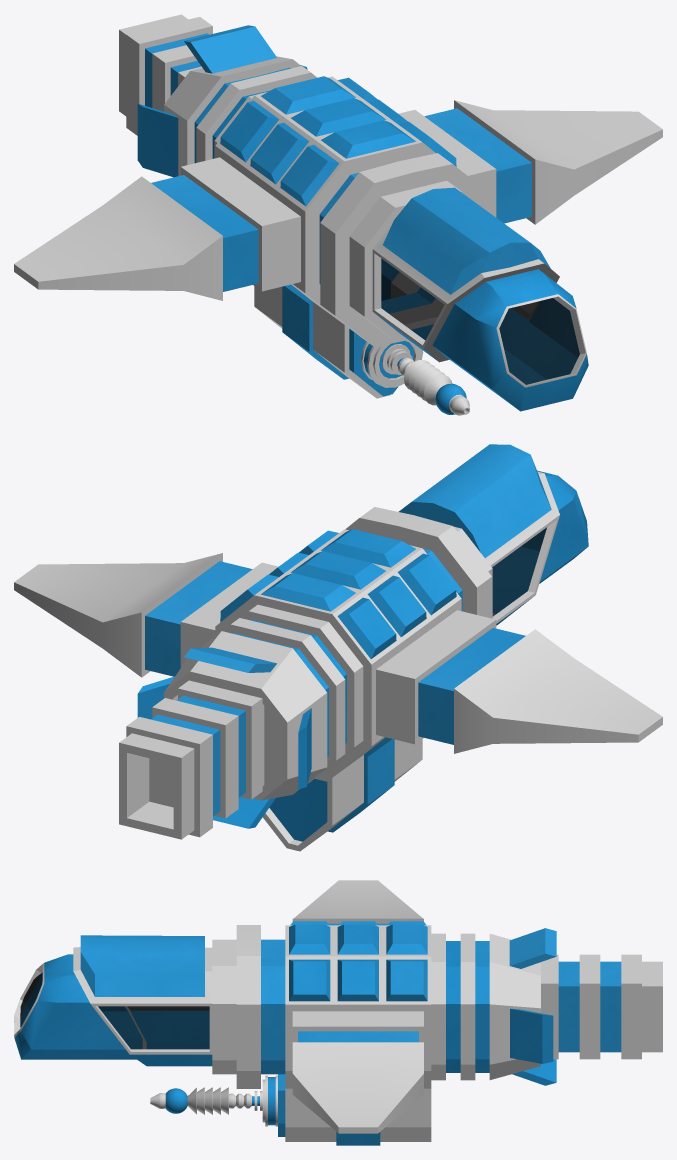
Rendered from BBE.fbx.
3 renders of one model, top to bottom at view 1: azimuth 30°, elevation 25°; view 2: azimuth 150°, elevation 25°; view 3: azimuth 270°, elevation 25°, orthographic. The views are drawn at different scales.
Parts seen in each view (by area): view 1: BBE; view 2: BBE; view 3: BBE.
Boxes of the visible parts, left/top/right/bottom form: BBE: left=14, top=14, right=662, bottom=415; BBE: left=14, top=444, right=662, bottom=851; BBE: left=14, top=880, right=662, bottom=1145.
Size of the model in its own units: 8 by 3.15 by 8.89.
